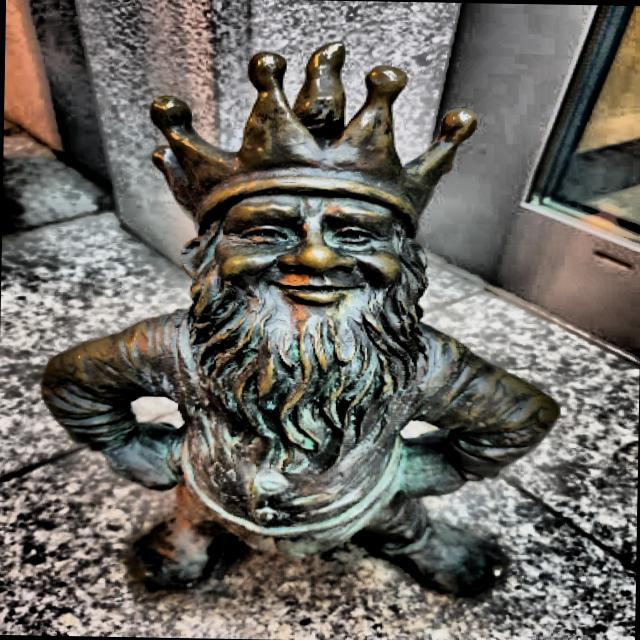Koronus: (41, 45, 560, 601)
